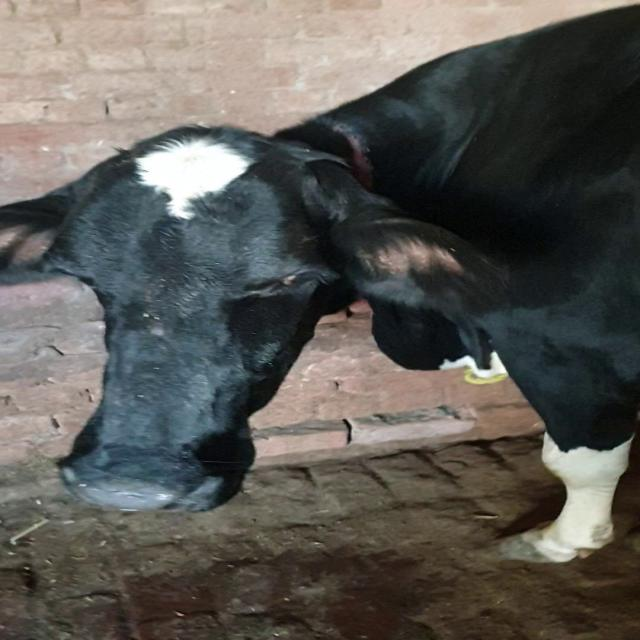cowFace: (1, 116, 374, 528)
